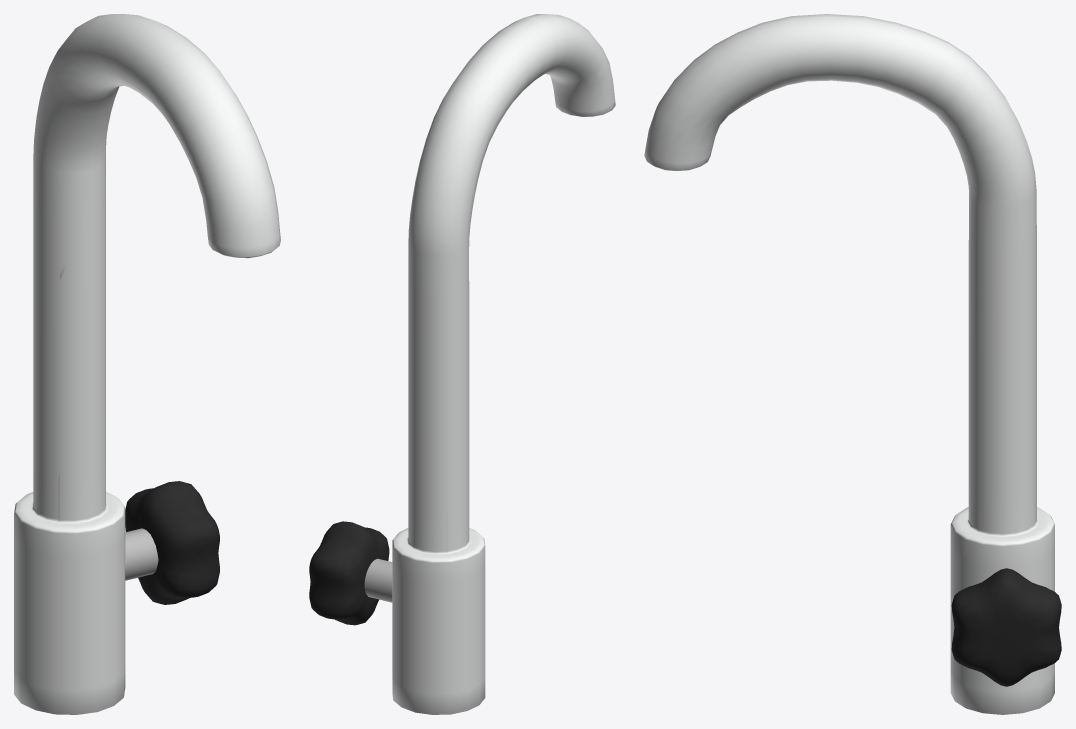
File: tap.fbx
3 views of the same model, side by side, from view 1: azimuth 30°, elevation 25°; view 2: azimuth 150°, elevation 25°; view 3: azimuth 270°, elevation 25° (orthographic). The views are drawn at different scales.
Parts seen in each view (by area): view 1: pCylinder20, pCylinder21, pCylinder22; view 2: pCylinder20, pCylinder21, pCylinder22; view 3: pCylinder20, pCylinder21.
Boxes of the visible parts, x1,y1,x2,y2 form: pCylinder20: [14, 14, 280, 714]; pCylinder21: [125, 481, 219, 604]; pCylinder22: [125, 528, 158, 580]; pCylinder20: [392, 14, 615, 714]; pCylinder21: [309, 521, 389, 625]; pCylinder22: [364, 558, 392, 602]; pCylinder20: [644, 14, 1054, 714]; pCylinder21: [951, 568, 1061, 686].
Bounding box in the file's own units: 11.9 × 45.82 × 25.52.
